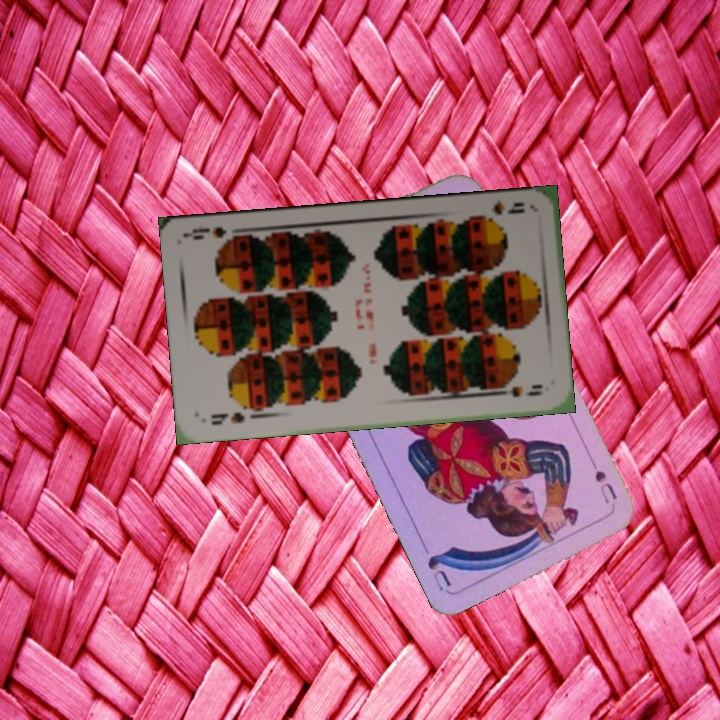S9: (474, 197, 527, 225), (207, 408, 248, 428)
SU: (586, 454, 620, 507)
